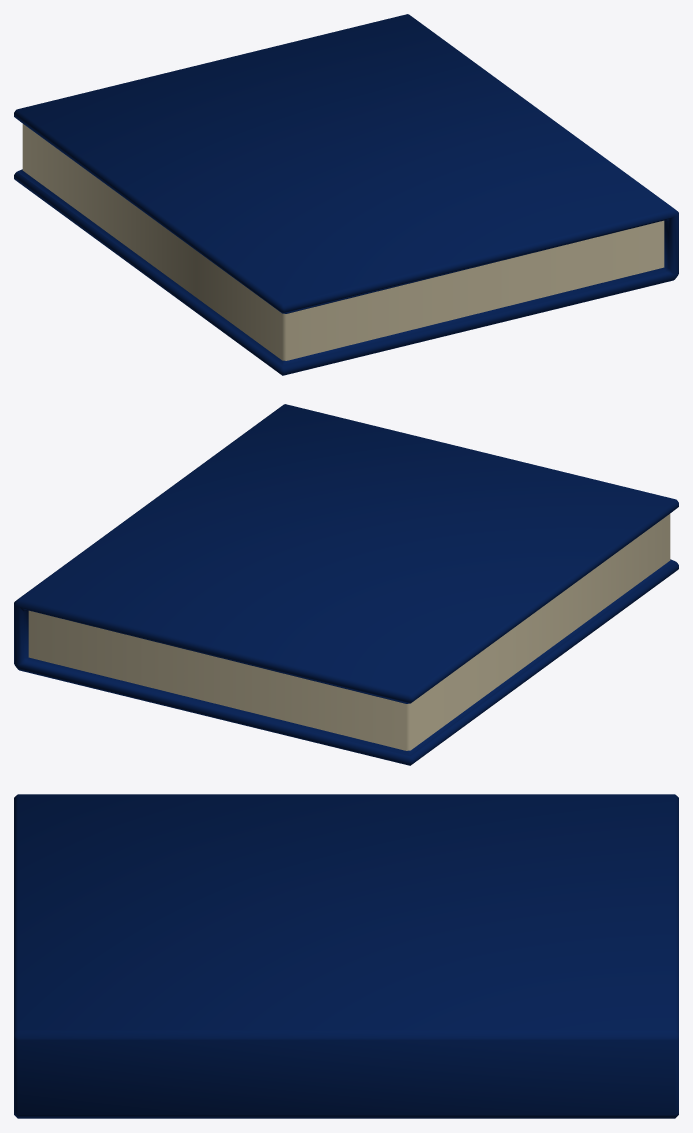
File: Actually blue book.fbx
3 views of the same model, one above another, from view 1: azimuth 30°, elevation 25°; view 2: azimuth 150°, elevation 25°; view 3: azimuth 270°, elevation 25° (orthographic). The views are drawn at different scales.
Parts seen in each view (by area): view 1: Cube; view 2: Cube; view 3: Cube.
Boxes of the visible parts, x1,y1,x2,y2 form: Cube: (14,14,678,375); Cube: (14,404,678,765); Cube: (14,794,678,1118).
Size of the model in its own units: 0.2141 by 0.0368 by 0.25.
